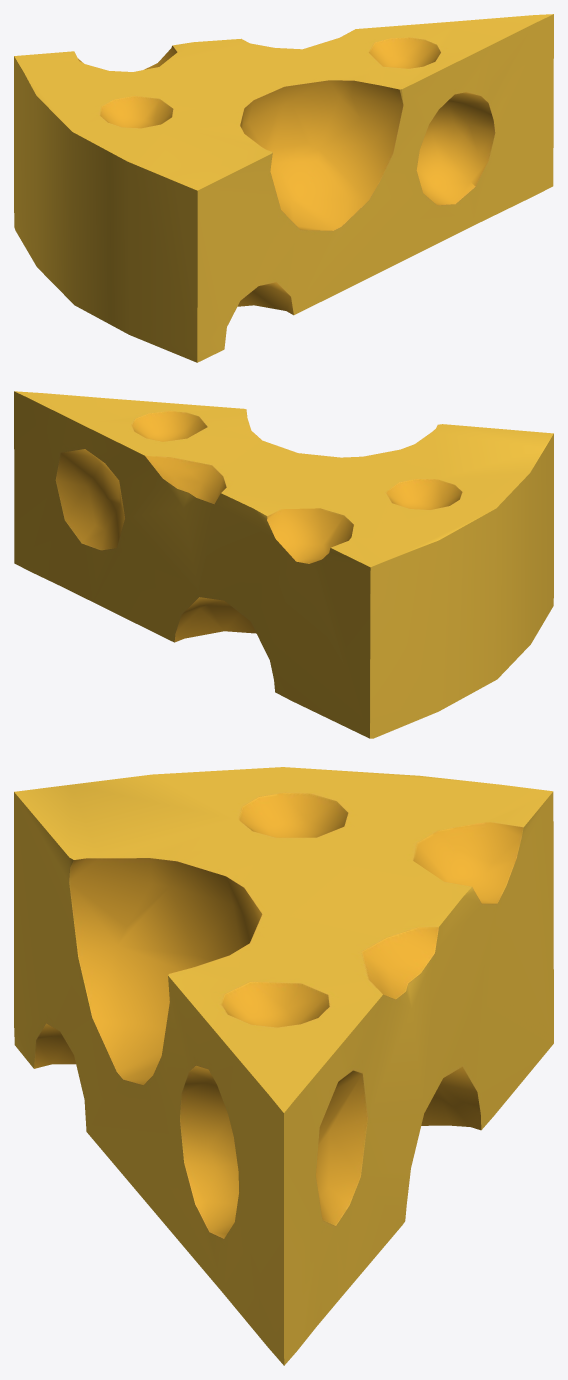
The model's file is CheeseBlock_Visual.glb.
3 views of the same model, one above another, from view 1: azimuth 30°, elevation 25°; view 2: azimuth 150°, elevation 25°; view 3: azimuth 270°, elevation 25° (orthographic). The views are drawn at different scales.
Visible parts, largest first — view 1: Cheese block; view 2: Cheese block; view 3: Cheese block.
Part boxes in pixels (x1,y1,x2,y2): Cheese block: [14, 14, 553, 362]; Cheese block: [14, 391, 553, 738]; Cheese block: [14, 767, 553, 1365].
Size of the model in its own units: 0.5733 by 0.1968 by 0.3782.
1 material, 1 textured.
